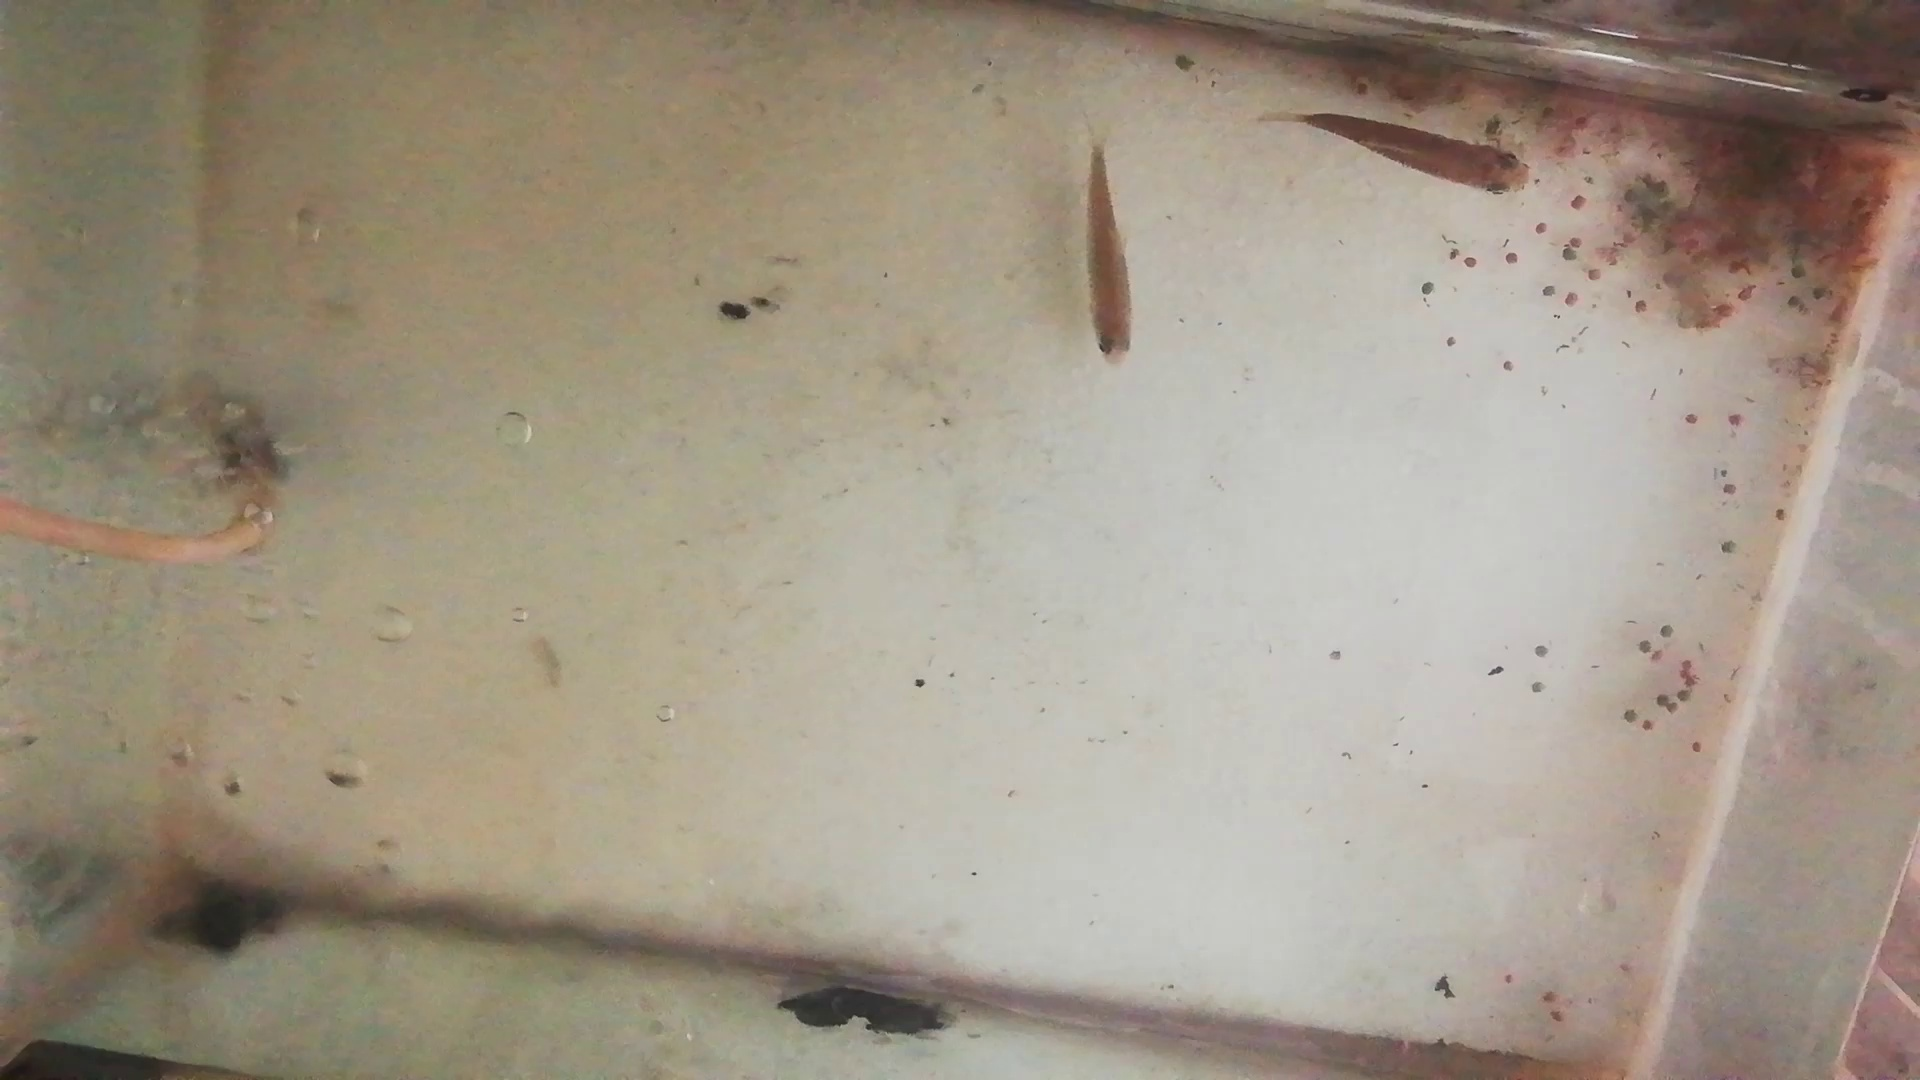fish: (1304, 112, 1531, 199), (1087, 148, 1139, 375)
